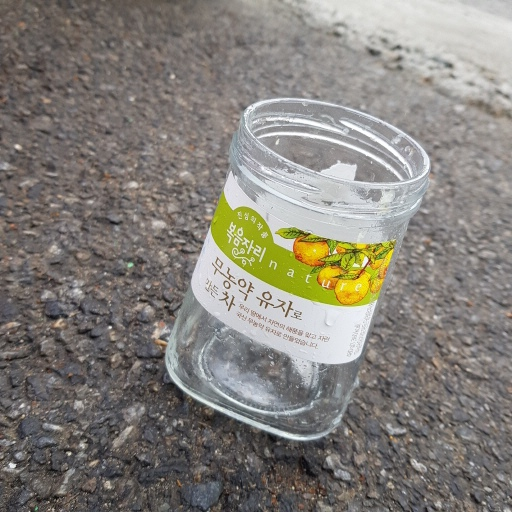Glass_5: (163, 99, 431, 453)
